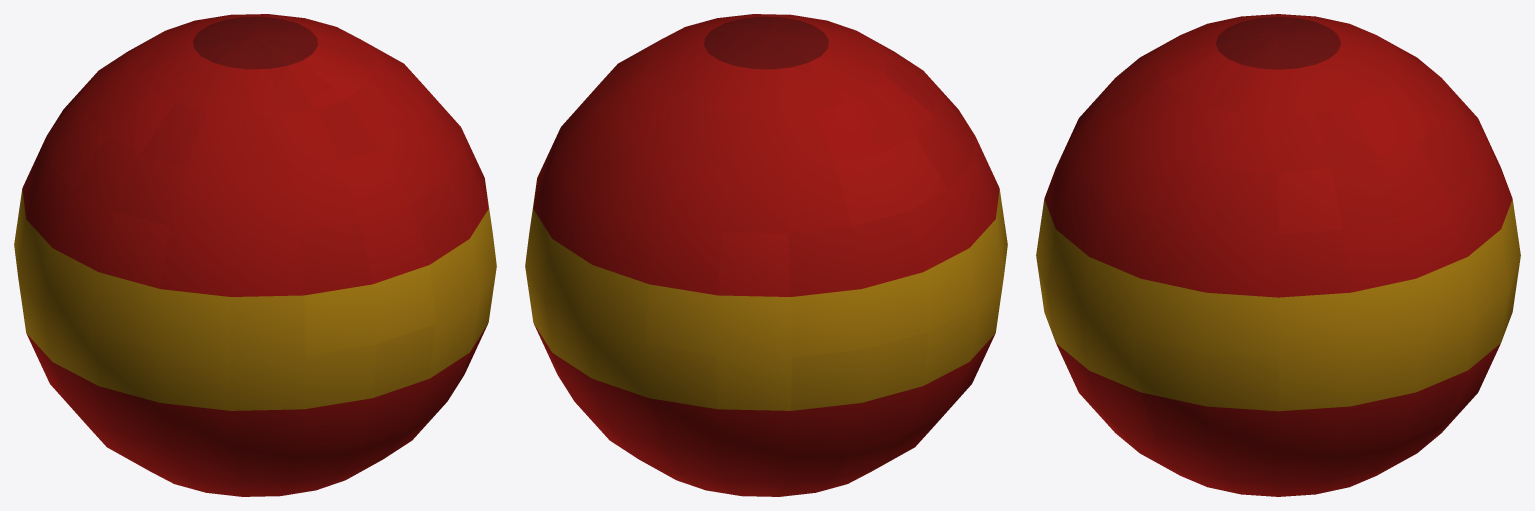
Rendered from rubber_ball.glb.
The picture shows the model from 3 angles, left to right: view 1: azimuth 30°, elevation 25°; view 2: azimuth 150°, elevation 25°; view 3: azimuth 270°, elevation 25°; orthographic projection.
Visible parts, largest first — view 1: Mesh; view 2: Mesh; view 3: Mesh.
Part boxes in pixels (<box>): Mesh: <box>14,14,496,496</box>; Mesh: <box>525,14,1007,496</box>; Mesh: <box>1036,14,1520,496</box>.
Bounding box in the file's own units: 0.6 × 0.6 × 0.6.
